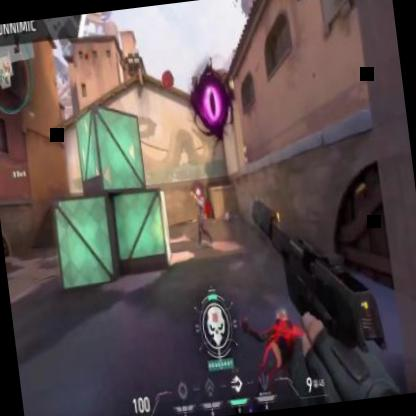enemy: (188, 183, 212, 248)
enemy_head: (194, 188, 201, 198)
